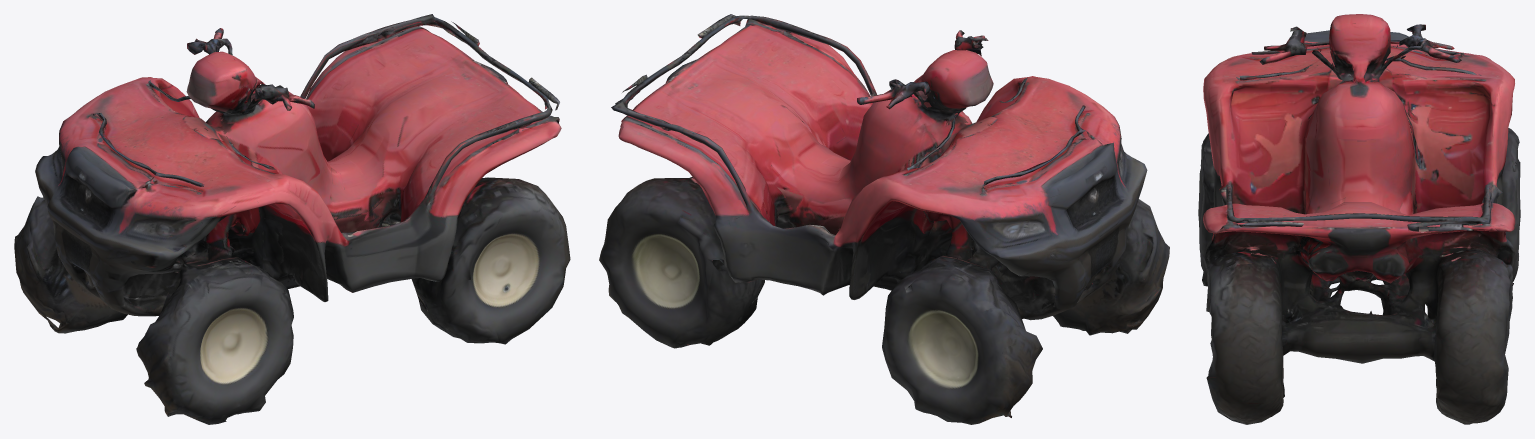
The model's file is logistics-truck2.glb.
The picture shows the model from 3 angles, left to right: view 1: azimuth 30°, elevation 25°; view 2: azimuth 150°, elevation 25°; view 3: azimuth 270°, elevation 25°; orthographic projection.
Bounding box in the file's own units: 1.99 × 1.3 × 1.27.
1 material, 1 textured.
